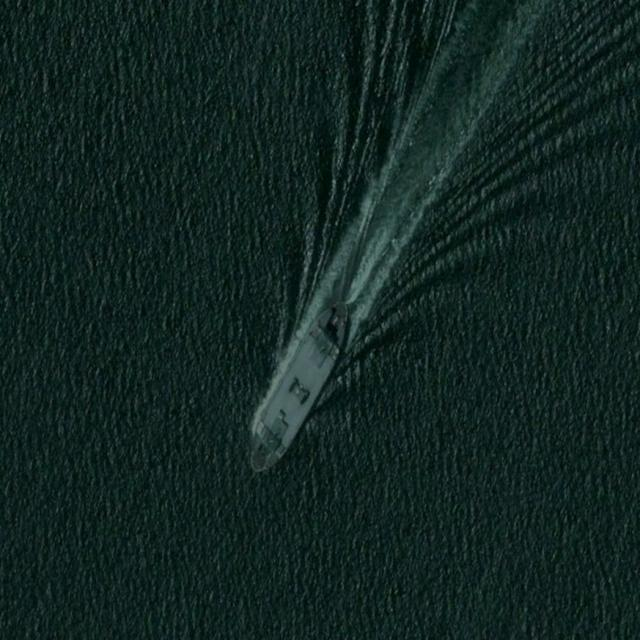RoRo: (238, 284, 362, 489)
